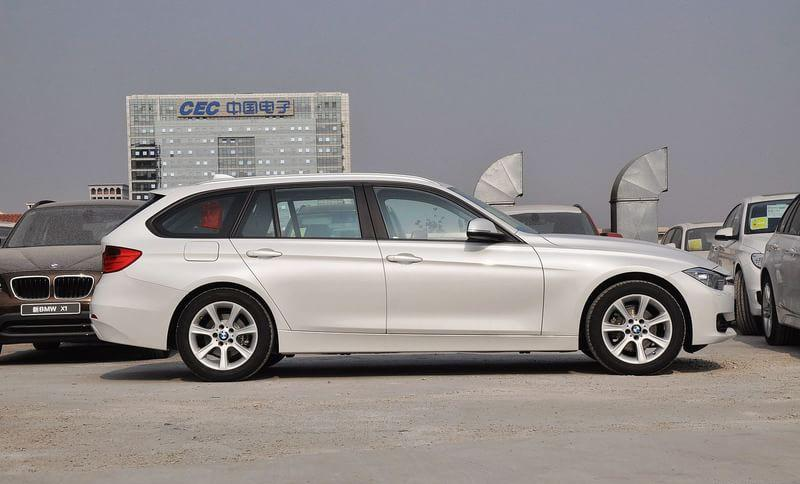Wagon: (87, 171, 739, 383)
